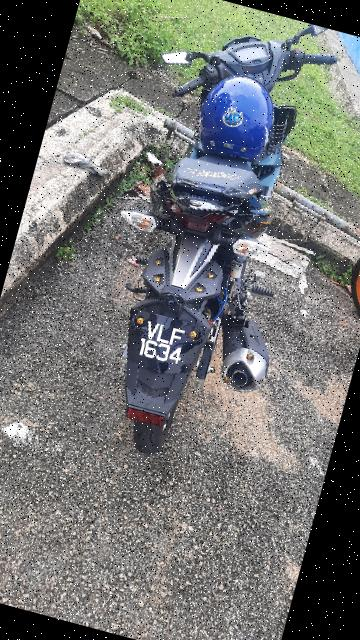License_Plate: (97, 292, 228, 392)
motorcycle: (52, 8, 360, 486)
